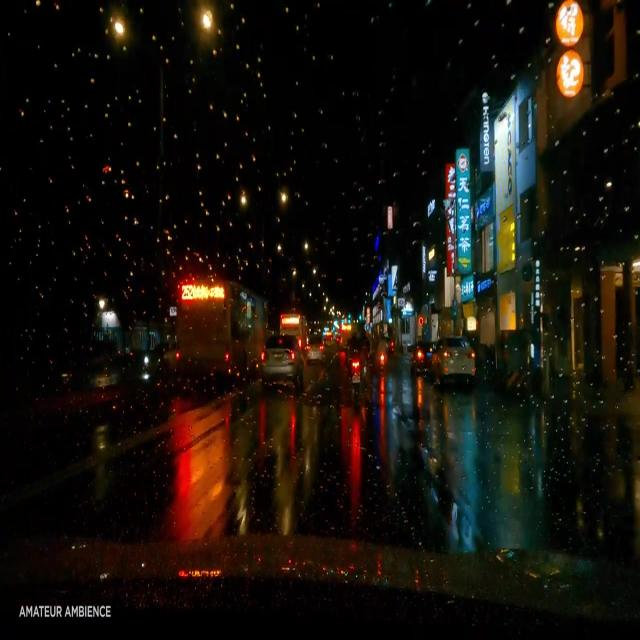Car: (432, 335, 475, 381), (306, 338, 328, 362)
